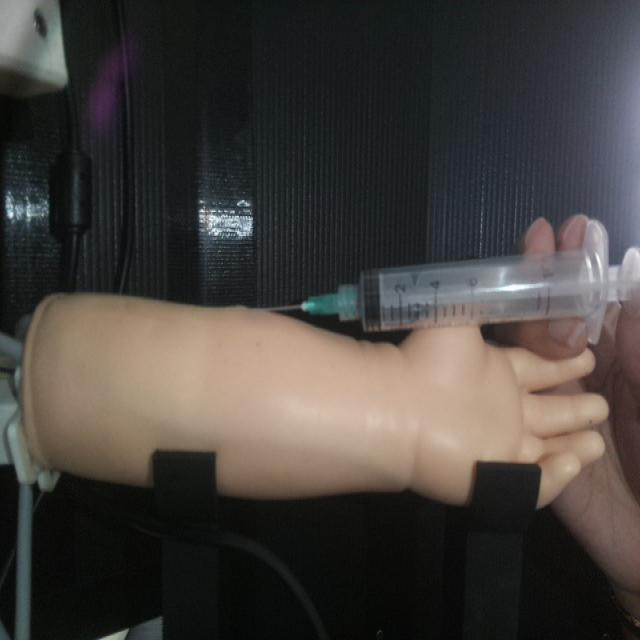Outside: (265, 219, 638, 344)
